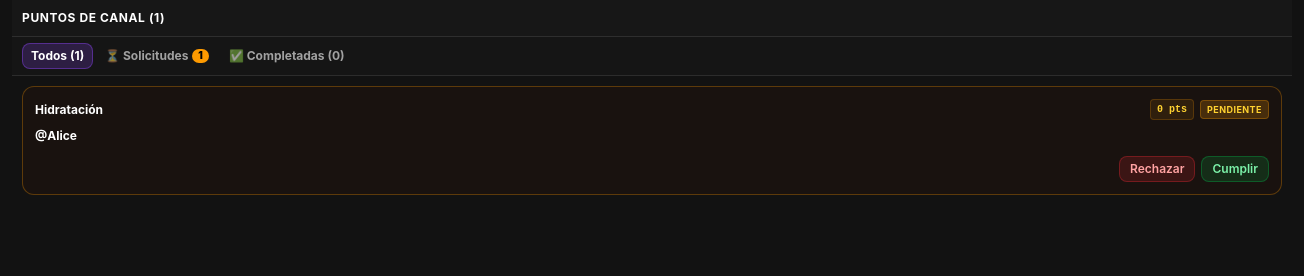
Test: RewardsQueuePanel › explains app ownership restrictions and preserves the pending redemption
Click the button "Cumplir": [1235, 169] box x1=1202 y1=156 x2=1269 y2=182
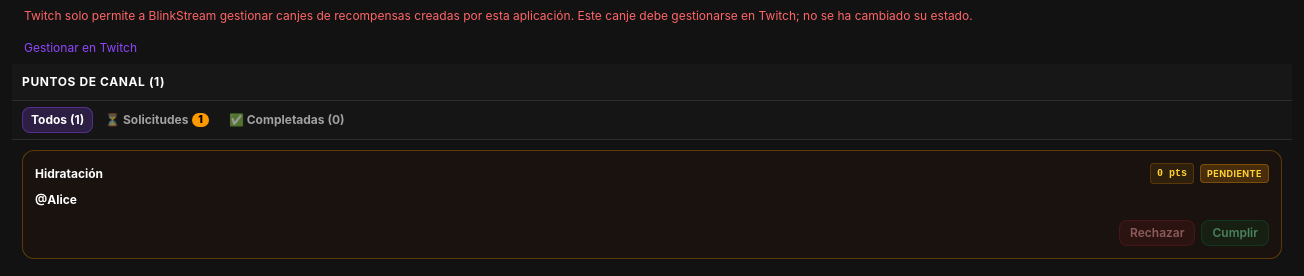
Expected: the message shows "recompensas creadas por esta aplicación", x1=24 y1=8 x2=973 y2=23
Expected: the button "Gestionar en Twitch" is shown, x1=12 y1=32 x2=1292 y2=64
Expected: the button "Cumplir" is disabled, x1=1202 y1=220 x2=1269 y2=246
